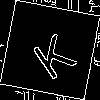K: (25, 25, 78, 81)
